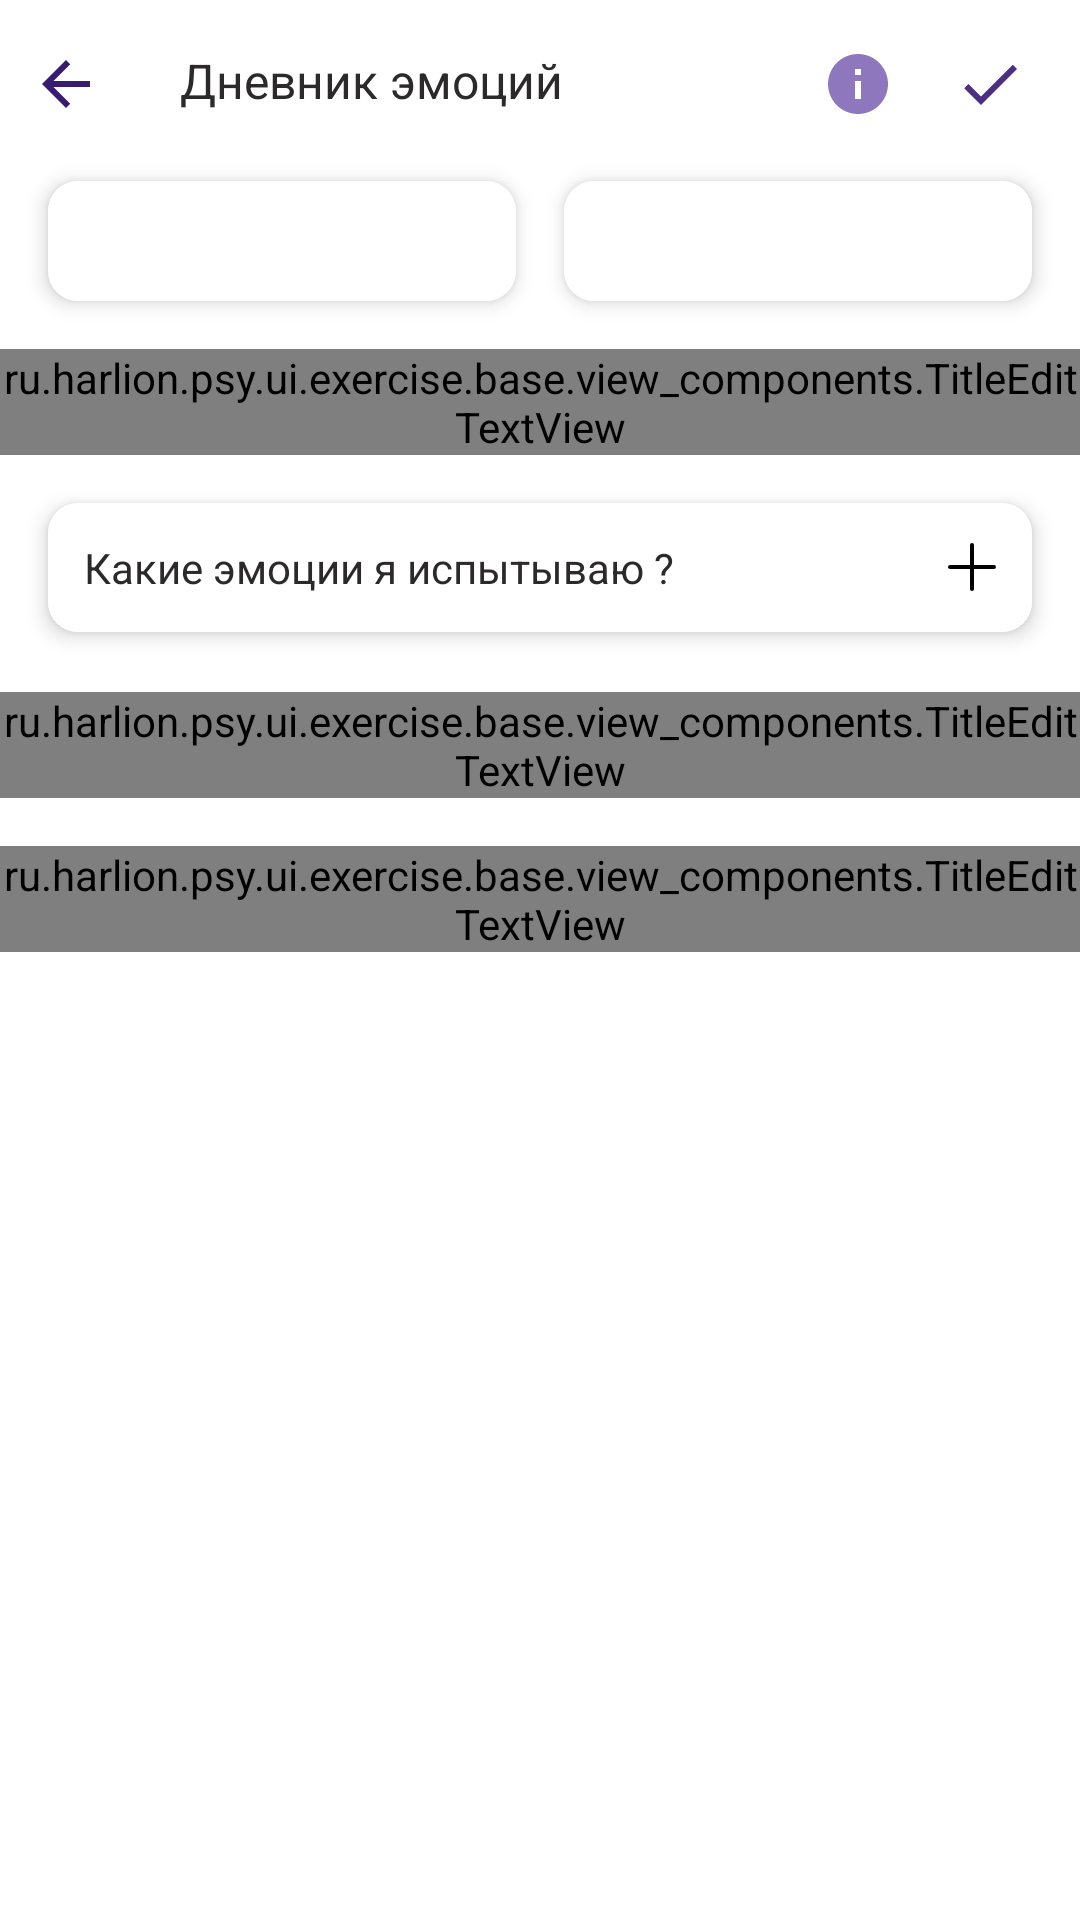

Icon click points for this 1080×1920 phone screenshot, format (x=x, y=y):
arrow back: (x=66, y=84)
done: (x=990, y=85)
info: (x=858, y=84)
